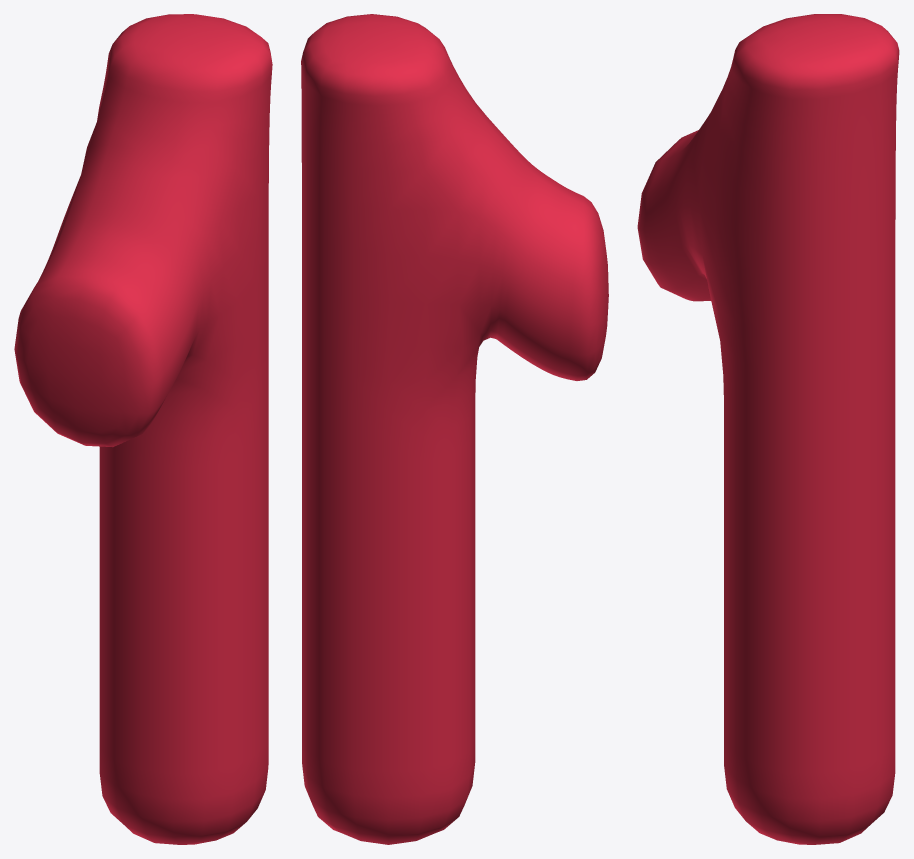
File: אחת.glb
3 renders of one model, left to right at view 1: azimuth 30°, elevation 25°; view 2: azimuth 150°, elevation 25°; view 3: azimuth 270°, elevation 25°, orthographic.
Parts seen in each view (by area): view 1: node_id27; view 2: node_id27; view 3: node_id27.
Boxes of the visible parts, x1=… form: node_id27: x1=14, y1=14, x2=272, y2=844; node_id27: x1=301, y1=14, x2=608, y2=844; node_id27: x1=637, y1=14, x2=899, y2=844.
Bounding box in the file's own units: 0.1046 × 0.301 × 0.0884.
Materials: 1 (1 with a texture image).
